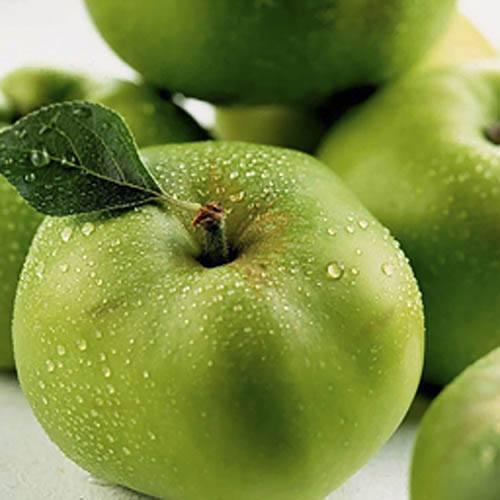apple: (10, 140, 423, 498)
